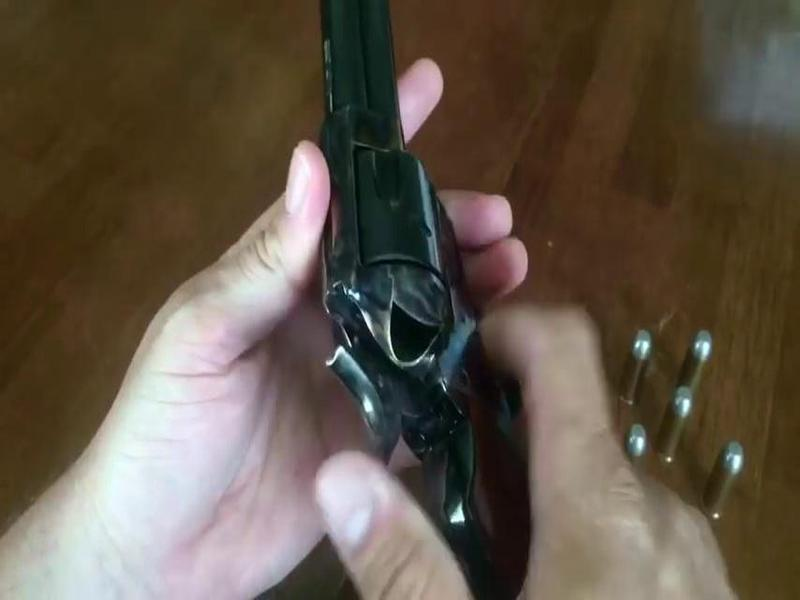Revolver: (277, 12, 561, 578)
